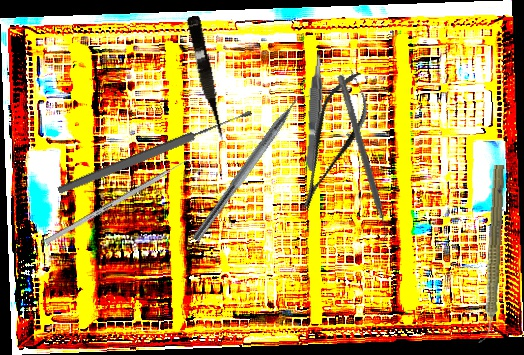Chopper: (191, 84, 317, 250)
Handpiece: (477, 164, 508, 345)
Micro Scissor: (281, 64, 382, 218), (183, 14, 229, 144)
Pusher: (44, 151, 201, 245)
Spatula Surgical: (329, 74, 395, 245)
Surgical Spoon: (56, 107, 254, 197)
Tissue Forceps: (302, 51, 328, 172)
